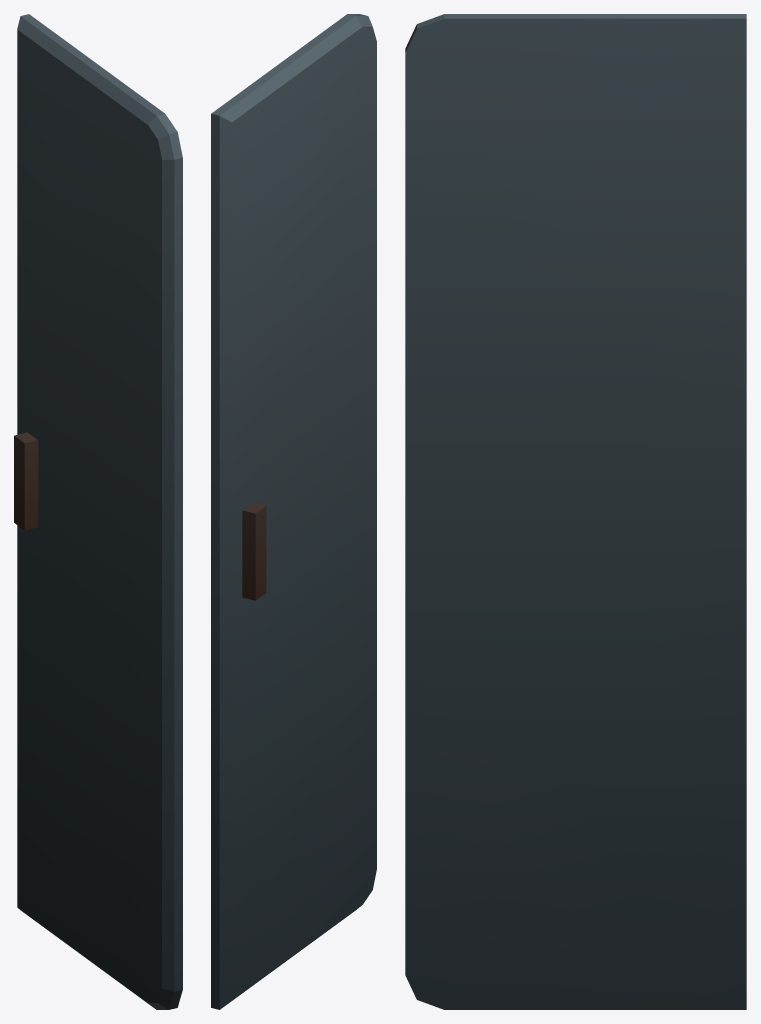
The model's file is FM_ShelfDoor_01.fbx.
The picture shows the model from 3 angles, left to right: view 1: azimuth 30°, elevation 25°; view 2: azimuth 150°, elevation 25°; view 3: azimuth 270°, elevation 25°; orthographic projection. The views are drawn at different scales.
Parts seen in each view (by area): view 1: FM_ShelfDoor_01; view 2: FM_ShelfDoor_01; view 3: FM_ShelfDoor_01.
Part boxes in pixels (left/top/right/bottom): FM_ShelfDoor_01: left=14, top=14, right=182, bottom=1009; FM_ShelfDoor_01: left=211, top=14, right=376, bottom=1009; FM_ShelfDoor_01: left=405, top=14, right=746, bottom=1009.
Size of the model in its own units: 0.0522 by 0.4679 by 1.5.
